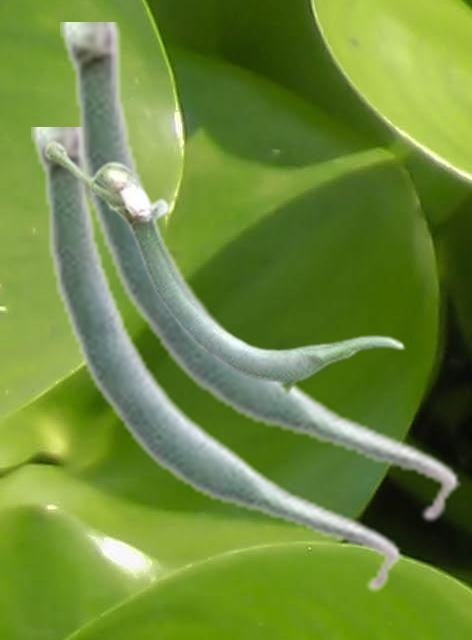french_bean: (60, 22, 459, 524), (31, 127, 401, 594), (43, 139, 404, 393)
